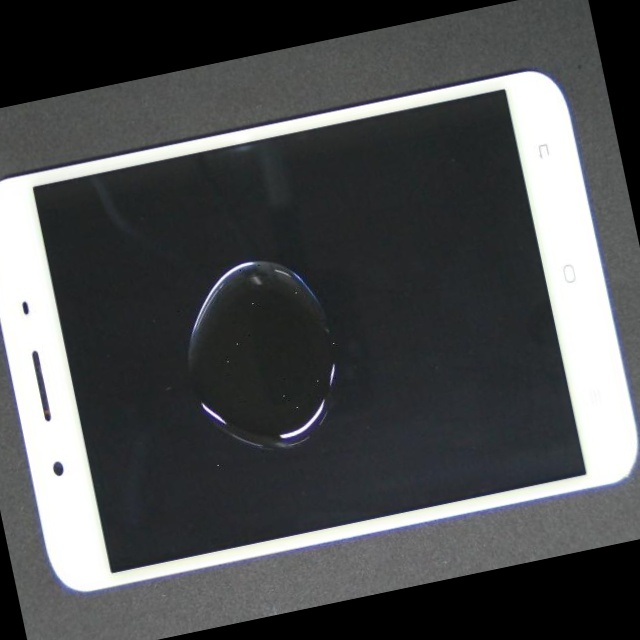oil: (142, 120, 421, 384)
